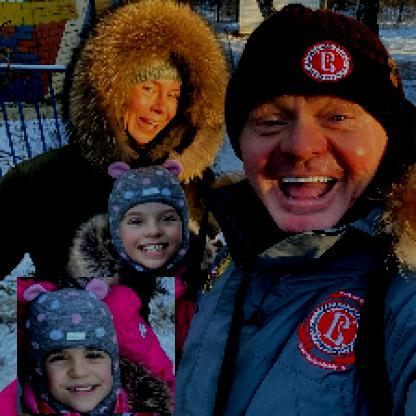child: (1, 161, 202, 416), (18, 278, 177, 415)
